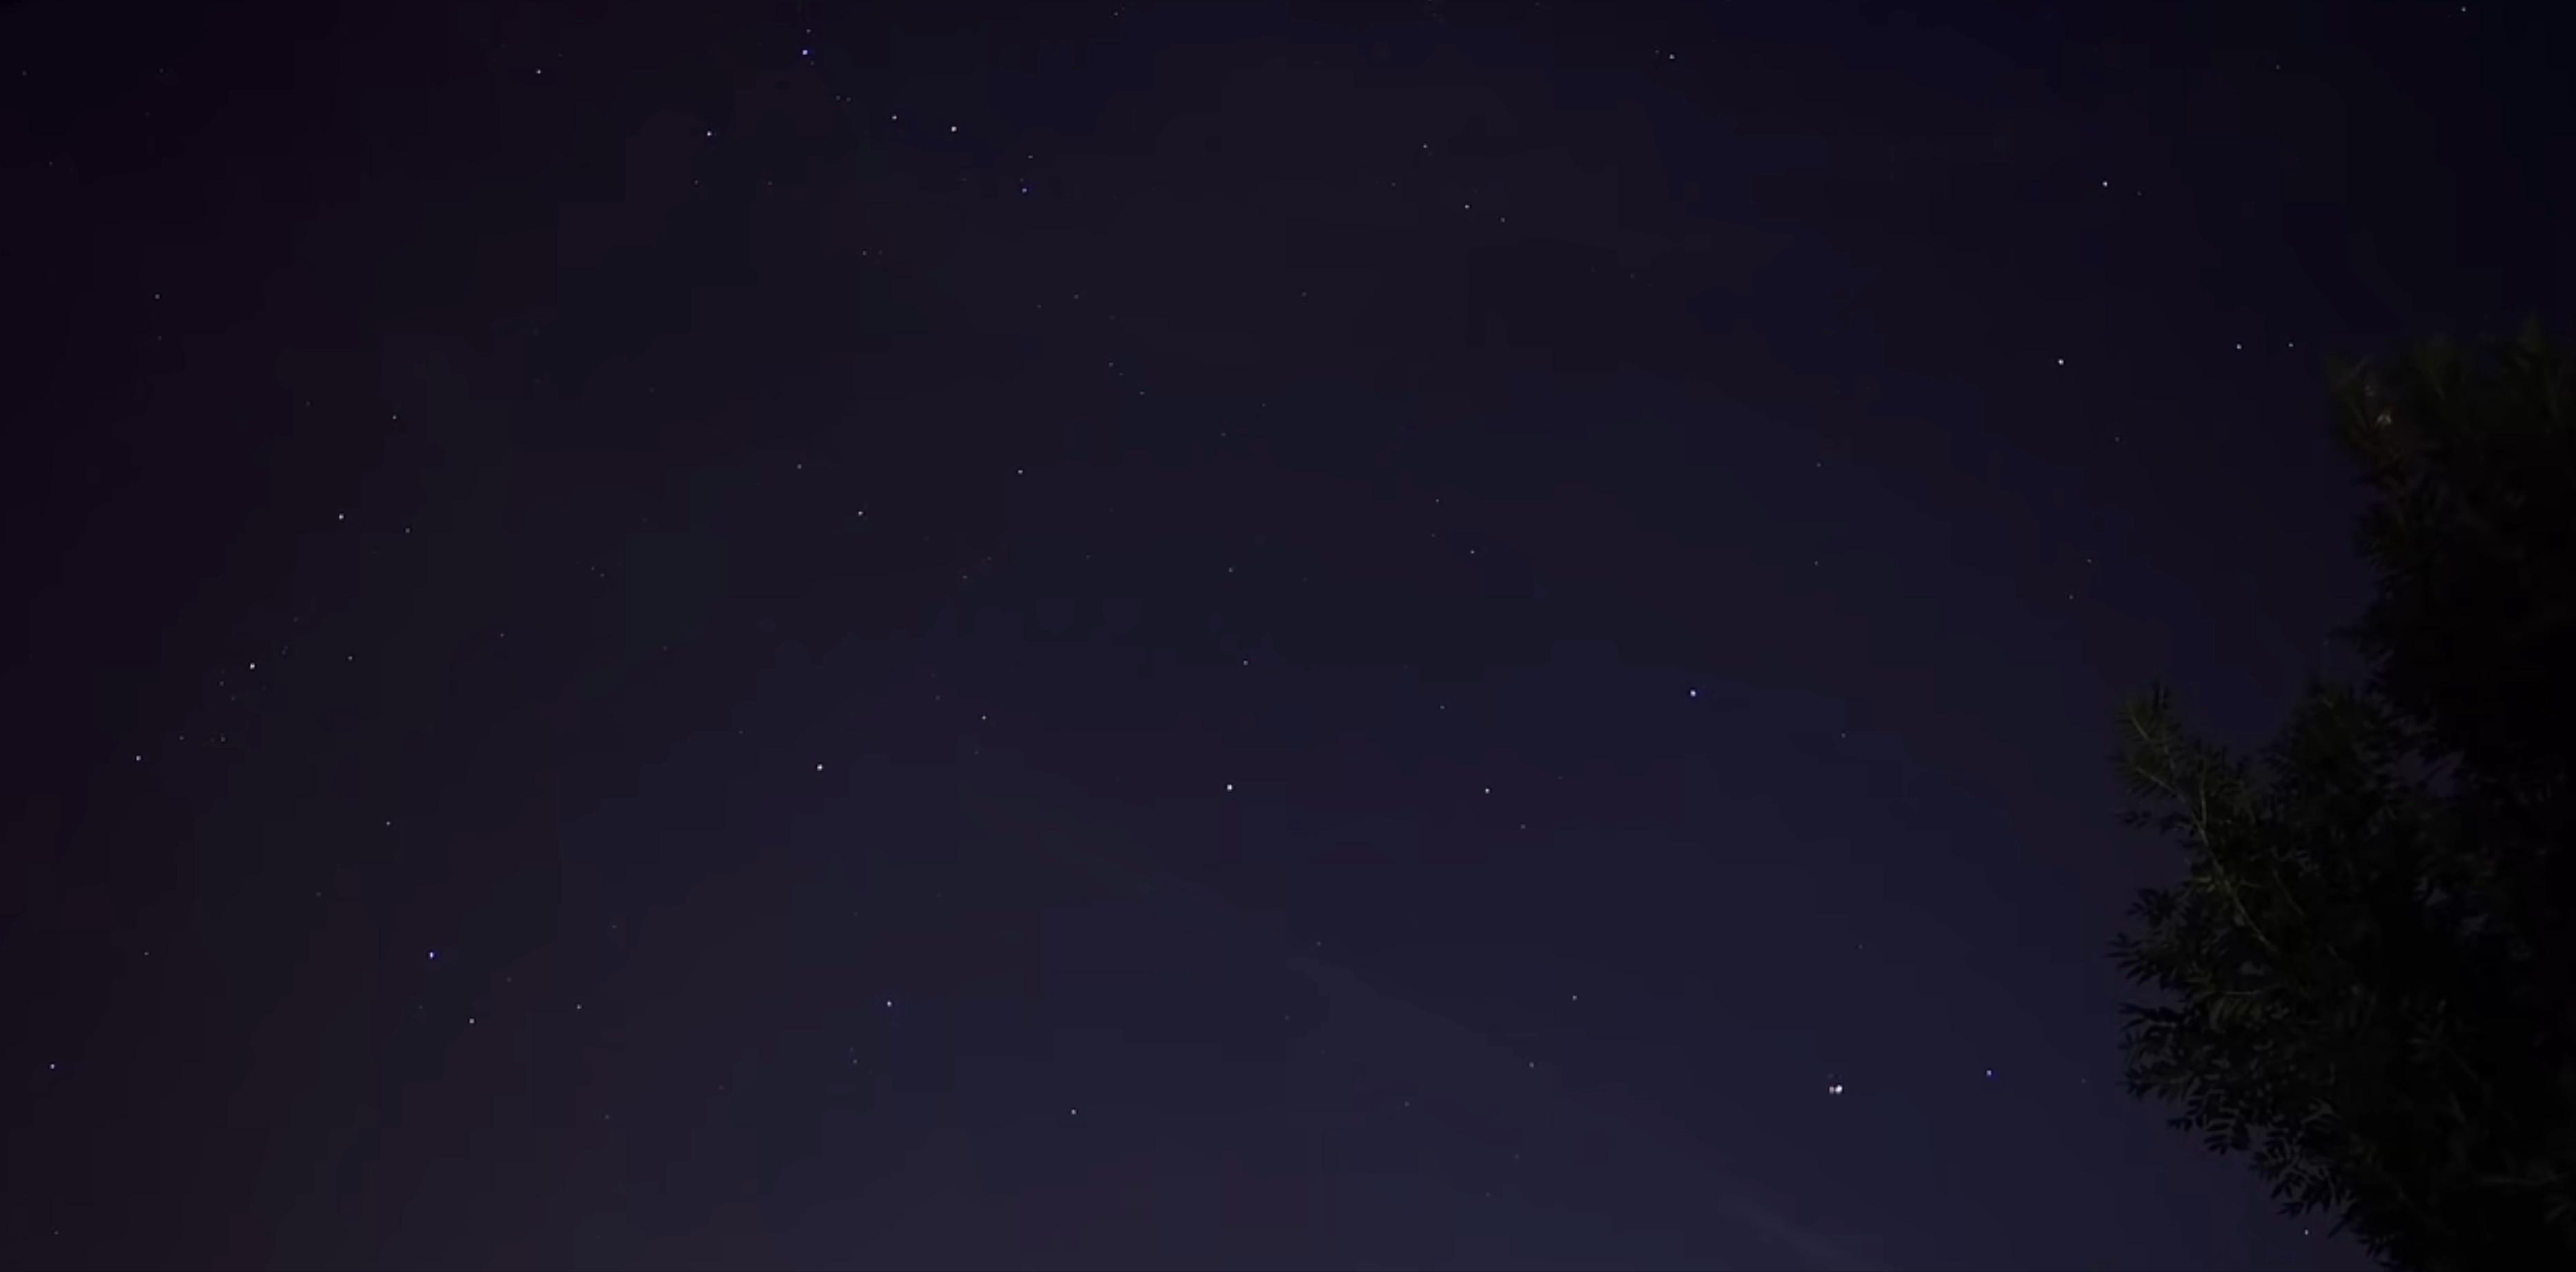Plane: (1807, 1075, 1868, 1103)
